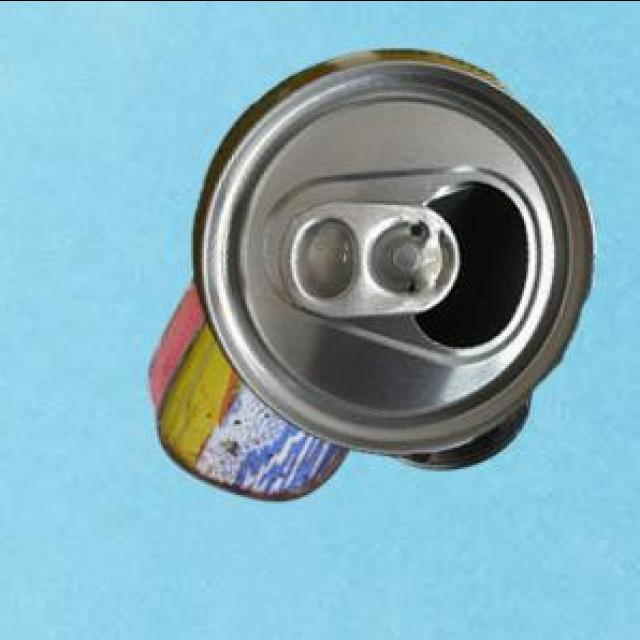logam: (197, 53, 600, 459), (151, 280, 353, 504), (398, 399, 534, 471)
